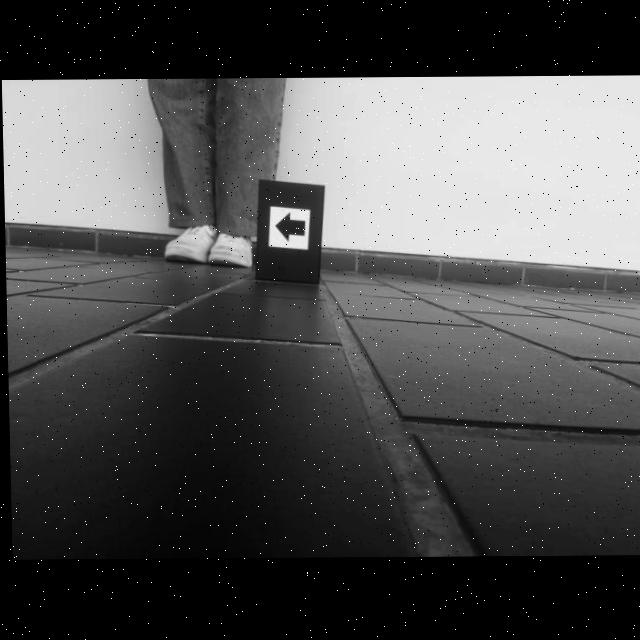LEFT: (273, 212, 305, 244)
